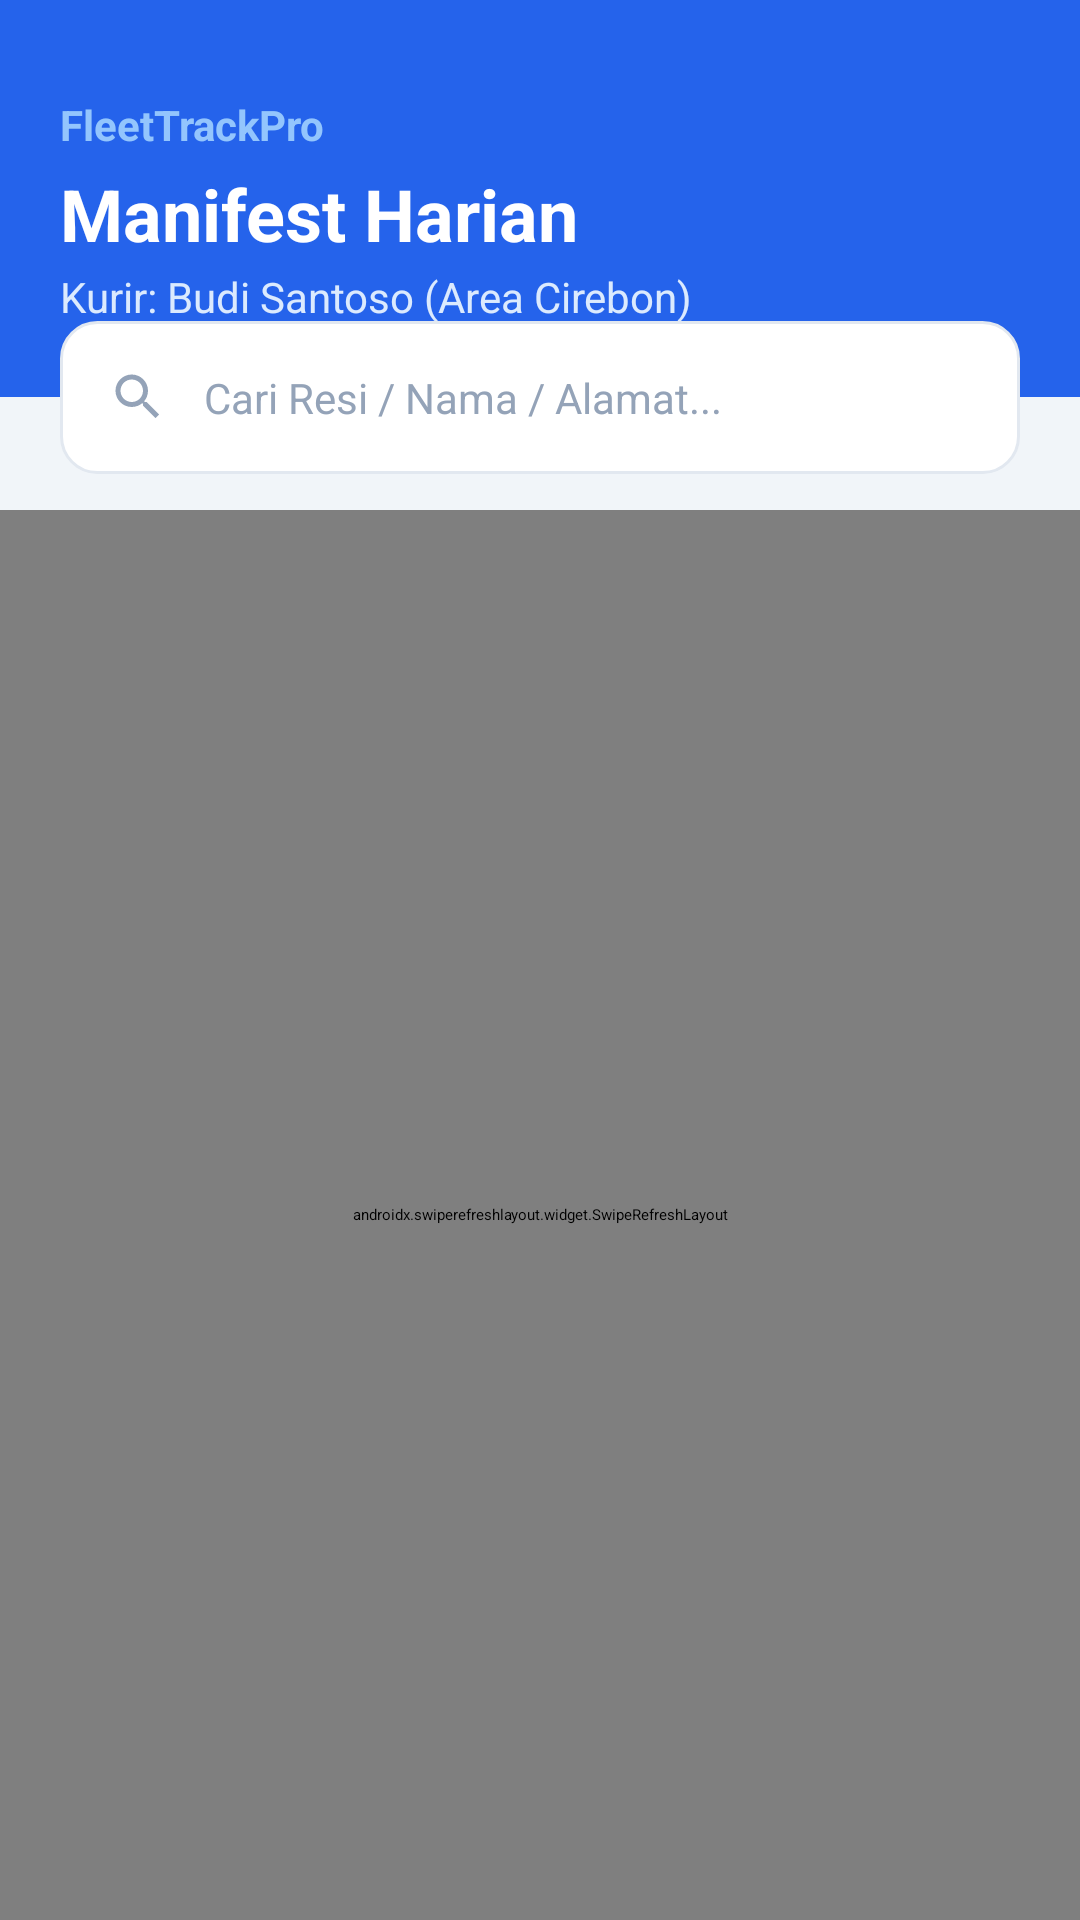

Icons on this 1080x1920 Android screen, each with its box as Rect(x1, y1, x2, y2):
search: Rect(115, 374, 159, 418)
